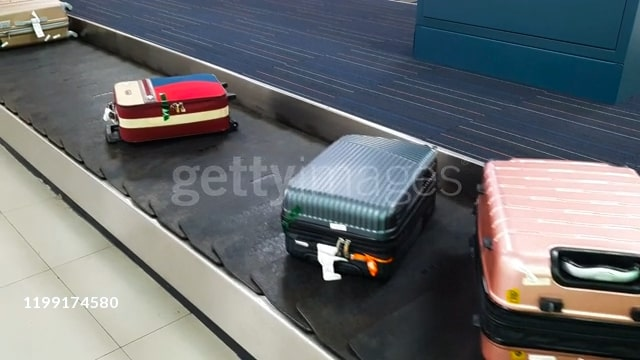baggage: (461, 157, 640, 360), (278, 129, 445, 286), (103, 74, 243, 145), (1, 1, 89, 55)
